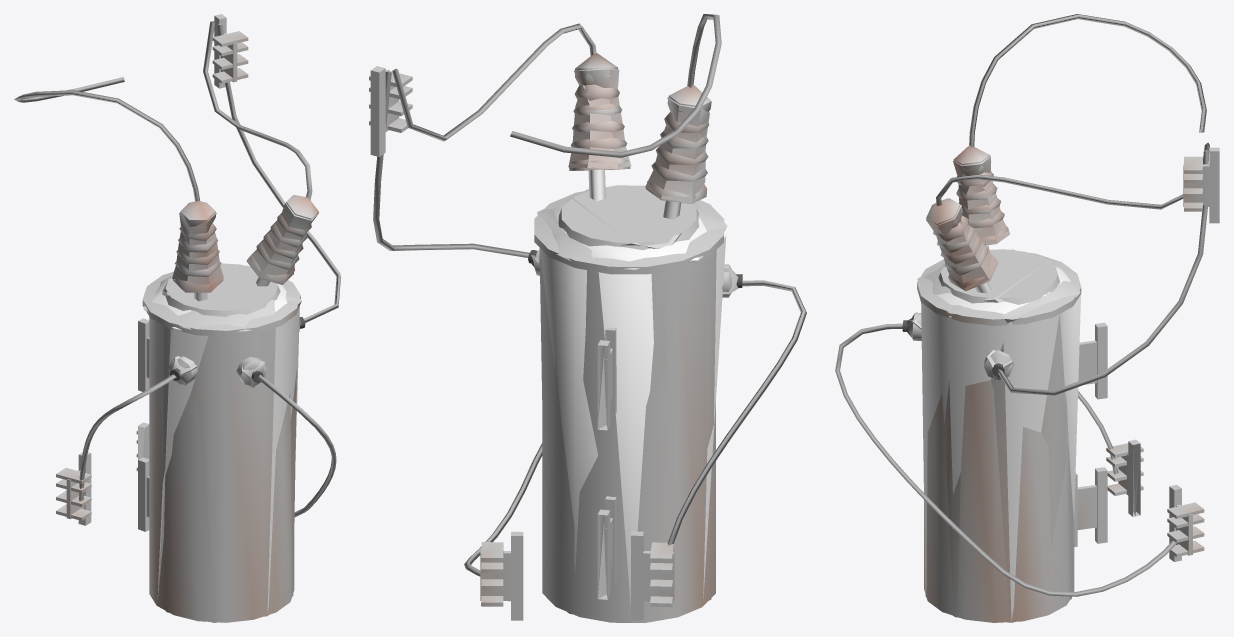
The model's file is electrical_transformer1.dae.
The picture shows the model from 3 angles, left to right: view 1: azimuth 30°, elevation 25°; view 2: azimuth 150°, elevation 25°; view 3: azimuth 270°, elevation 25°; orthographic projection. The views are drawn at different scales.
Visible parts, largest first — view 1: electrical_transformer1_a100, electrical_transformer1_a050, electrical_transformer1_a025; view 2: electrical_transformer1_a100, electrical_transformer1_a025, electrical_transformer1_a050; view 3: electrical_transformer1_a100, electrical_transformer1_a025, electrical_transformer1_a050.
Part boxes in pixels (left/top/right/bottom): electrical_transformer1_a100: left=14, top=14, right=340, bottom=622; electrical_transformer1_a050: left=87, top=33, right=318, bottom=622; electrical_transformer1_a025: left=143, top=276, right=299, bottom=613; electrical_transformer1_a100: left=369, top=14, right=806, bottom=622; electrical_transformer1_a025: left=539, top=202, right=726, bottom=606; electrical_transformer1_a050: left=512, top=68, right=738, bottom=614; electrical_transformer1_a100: left=835, top=14, right=1219, bottom=622; electrical_transformer1_a025: left=921, top=265, right=1080, bottom=622; electrical_transformer1_a050: left=905, top=156, right=1208, bottom=622.
Bounding box in the file's own units: 0.7437 × 0.8634 × 1.29.
